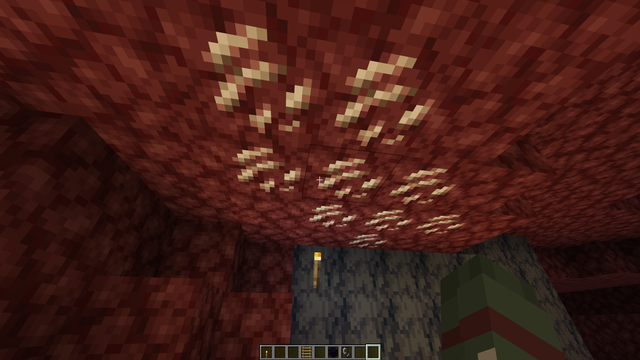quartz: (192, 7, 469, 255)
